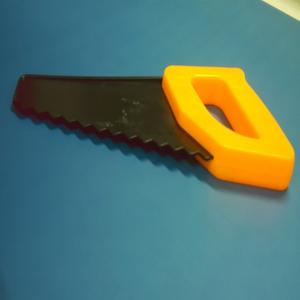serrote: (12, 64, 296, 192)
